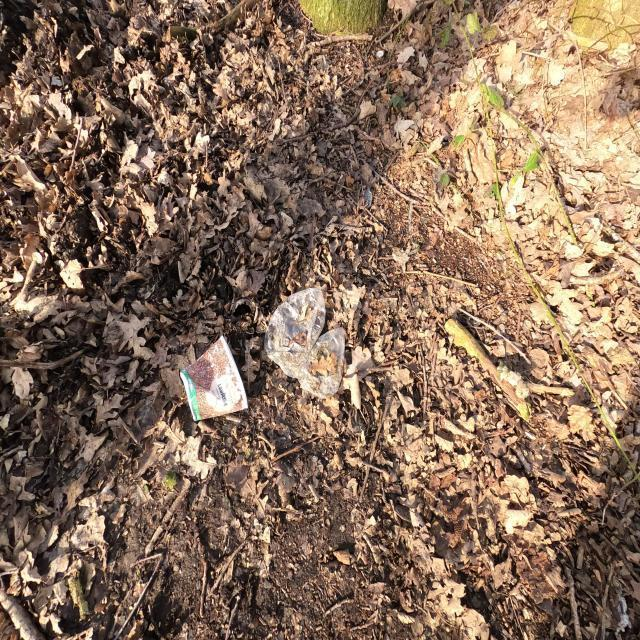Cup: (178, 334, 249, 424)
